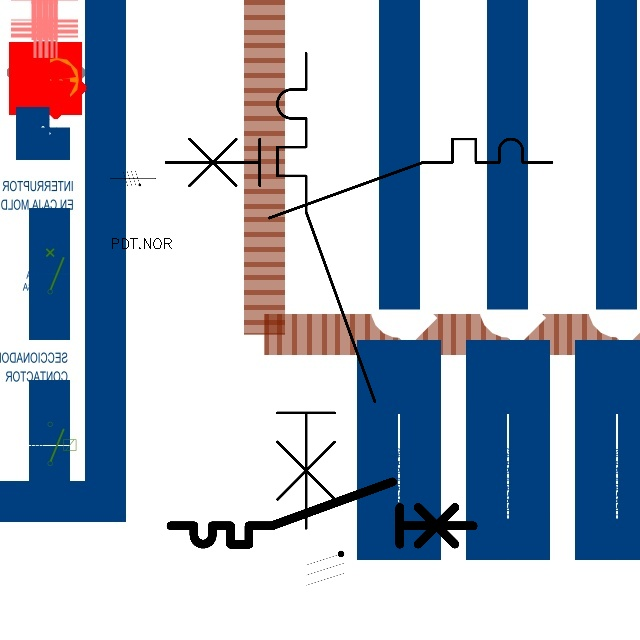interruptor_termomagnetico: (265, 41, 387, 540), (156, 129, 562, 228), (163, 474, 481, 552)
